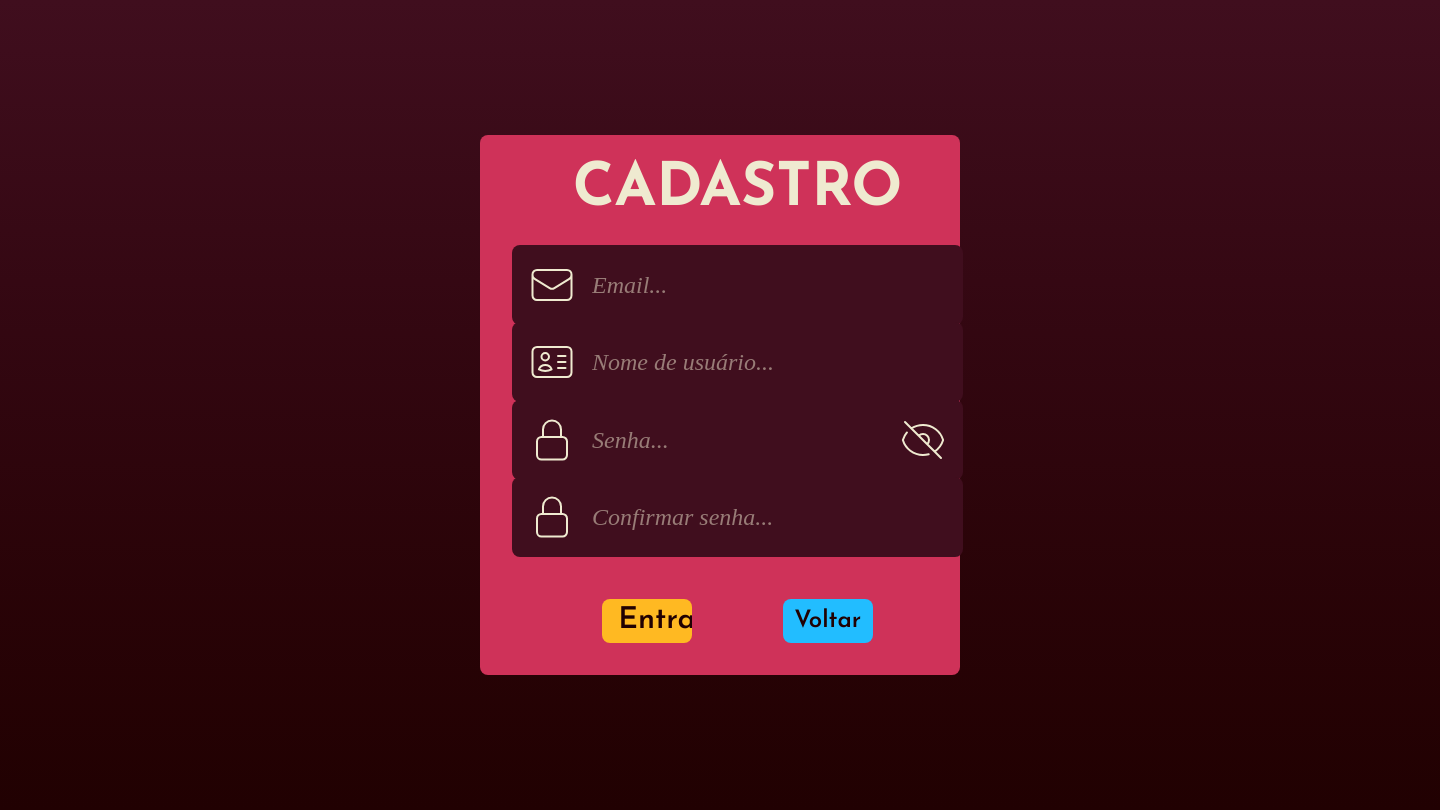
Test: Componente Signup › Cenário: cadastro sem confirmação de senha
// DADO QUE eu preenchi senhas que não coincidem...
Step 1. Type "good" into the password field with placeholder "Senha..." → x=738, y=440, box [592, 424, 883, 456]
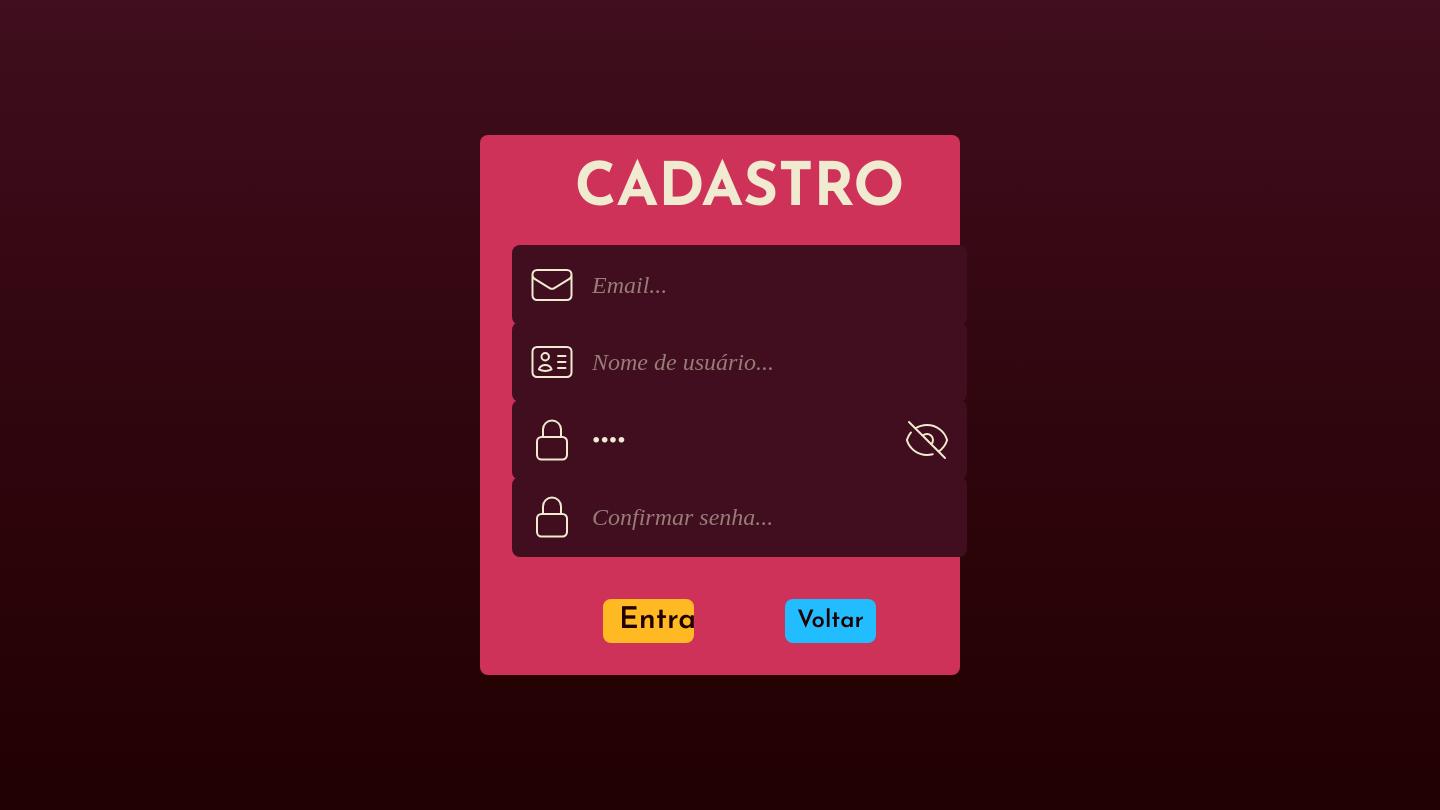
Step 2. Type "bad" into the password field with placeholder "Confirmar senha..." → x=764, y=517, box [592, 501, 935, 533]
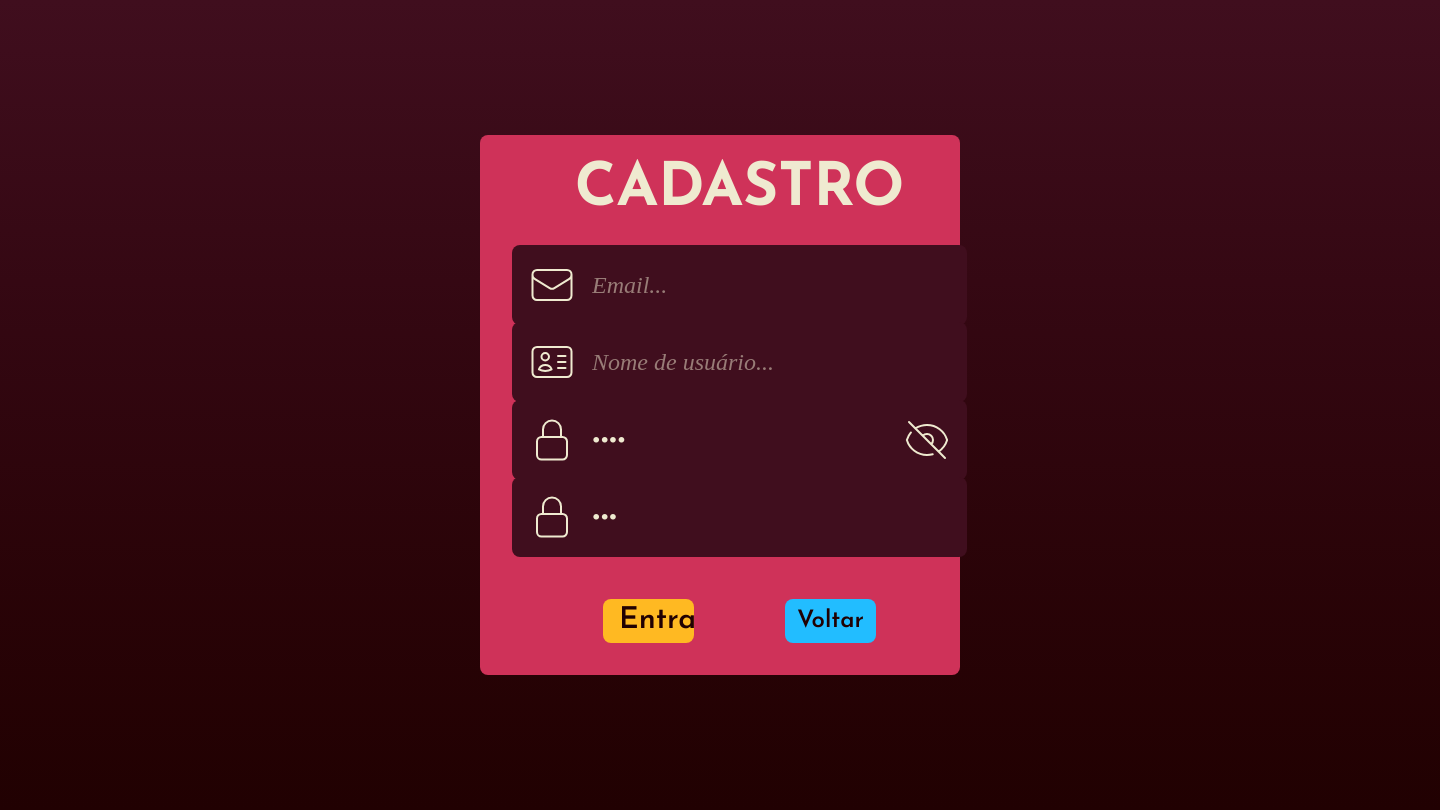
// QUANDO eu clico em entrar...
Step 3. Click the button "Entrar" → x=648, y=621, box [603, 599, 694, 643]
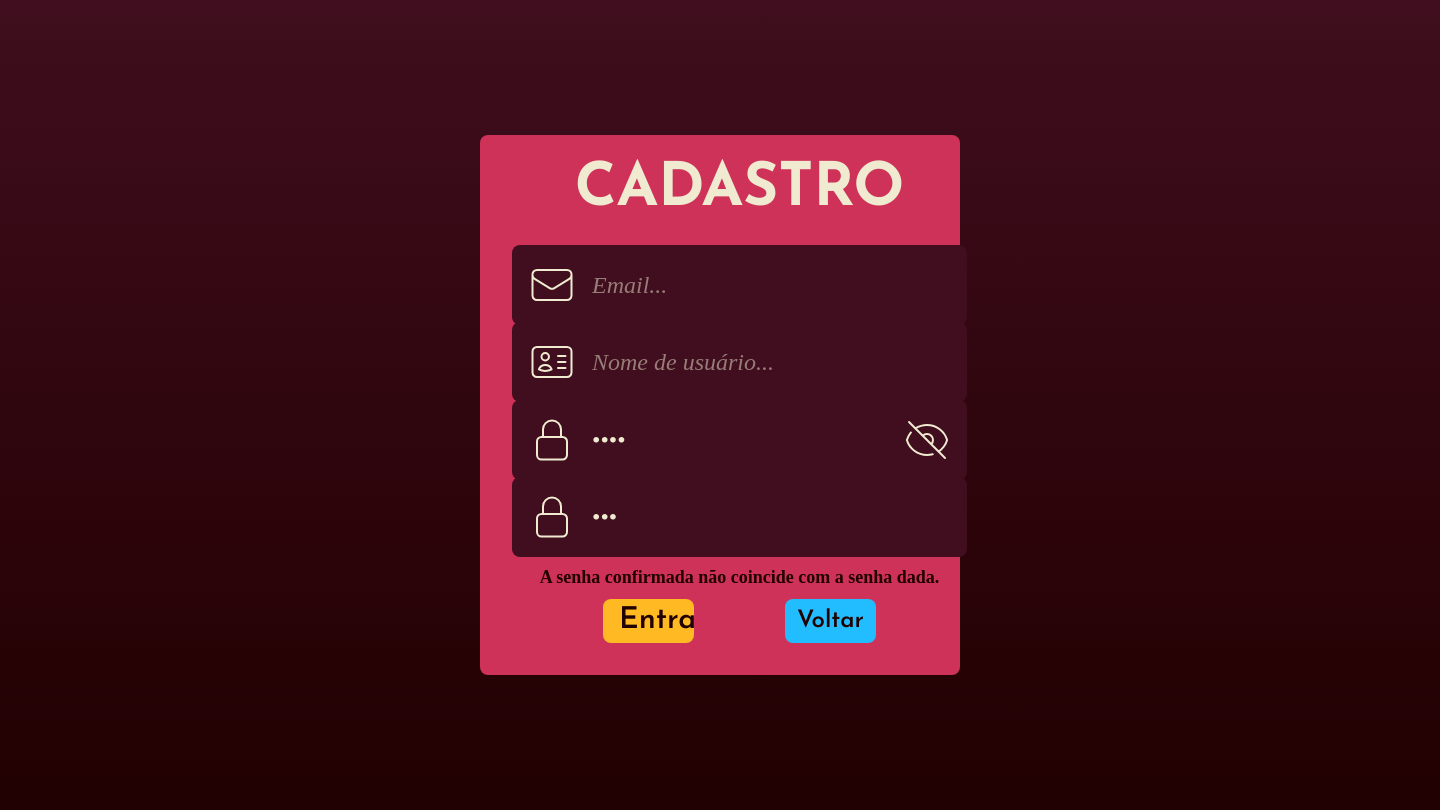
Now the text with test id "error-text" reads "A senha confirmada não coincide com a senha dada.", box [540, 567, 939, 587]
